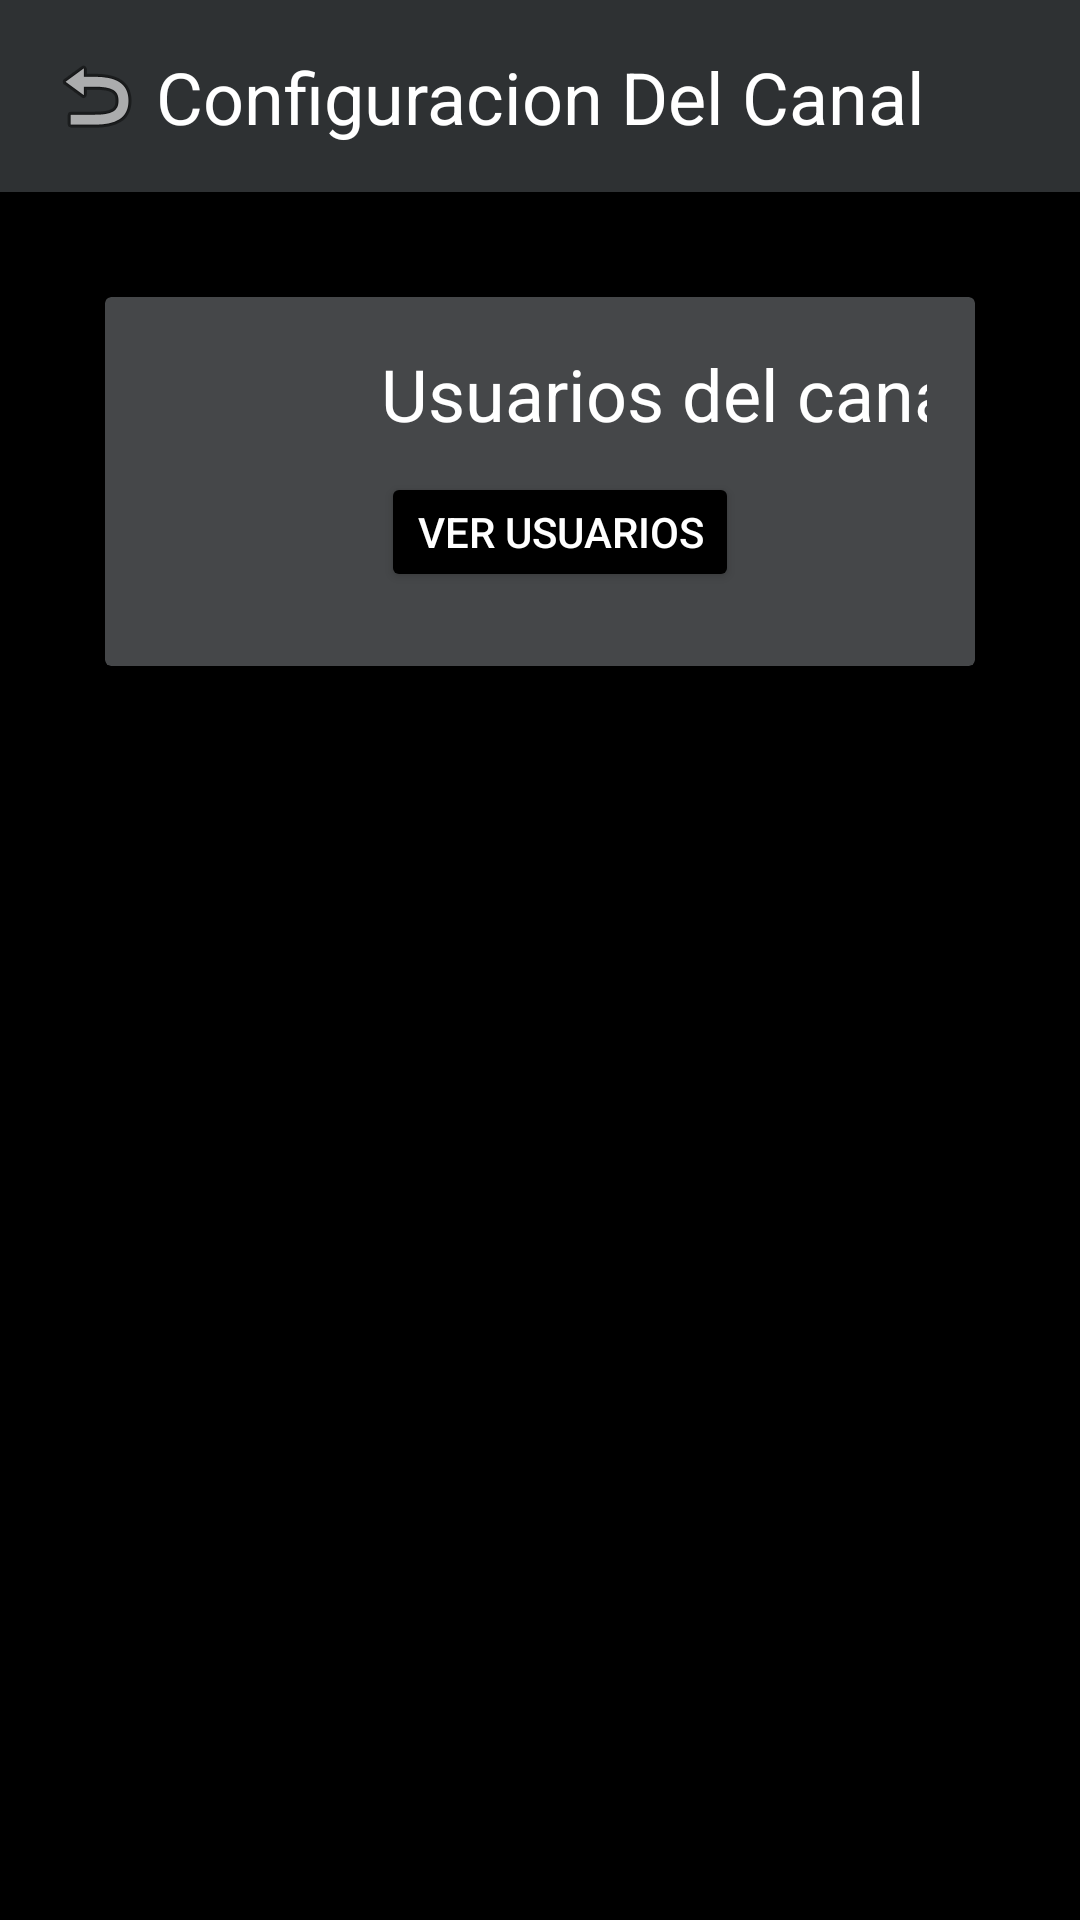

Named icons in this screenshot (1080px x 1920px) and their bounding boxes, (x1, y1, x2, y2):
revert: (65, 68, 130, 126)
